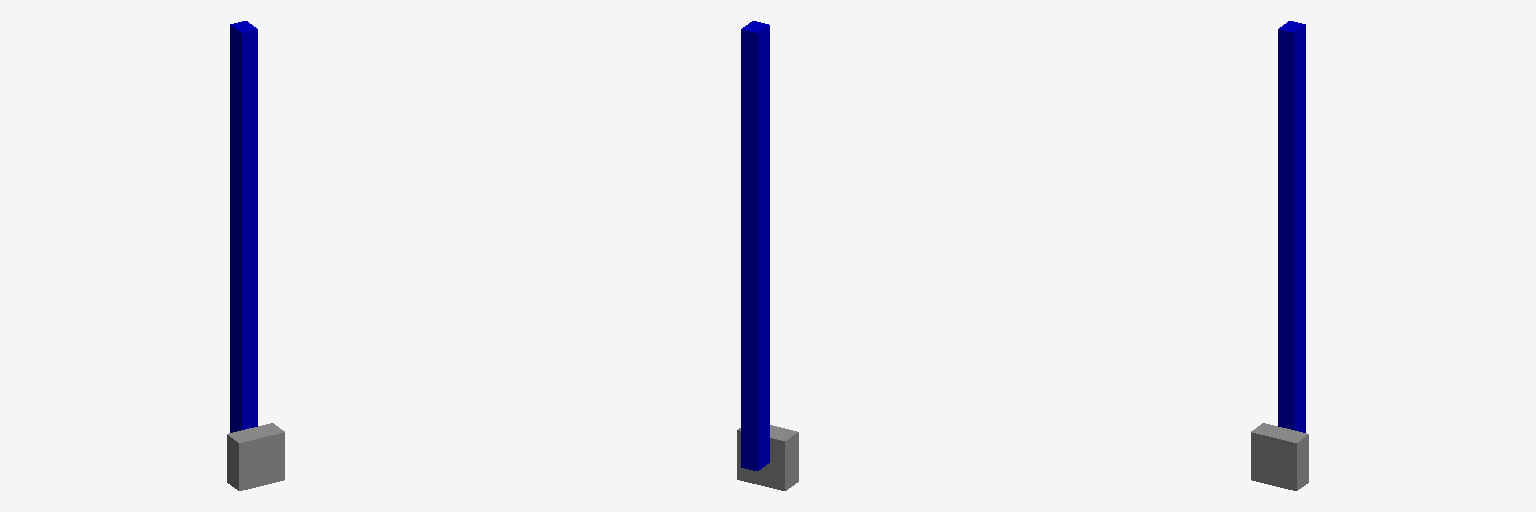
robot.urdf — omnipointer:
<?xml version="1.0" ?>
<!-- =================================================================================== -->
<!-- |    This document was autogenerated by xacro from robots/omnipointer_arm_only.urdf.xacro | -->
<!-- |    EDITING THIS FILE BY HAND IS NOT RECOMMENDED                                 | -->
<!-- =================================================================================== -->
<robot name="omnipointer" xmlns:xacro="http://ros.org/wiki/xacro">
  <!--MX64trntbl + MX106:  ? + 0.153 -->
  <!-- singleaxismount + 2.5girder + singleaxismount + base + MX106: 0.007370876 + 0.0226796 + 0.007370876 + ? + 0.153 -->
  <!-- frame106 + singleaxismount + adjustgirder + singleaxismount + base + MX28: 0.0907185 + 0.00737088 + 0.110563 + 0.00737088 + ? + 0.077 -->
  <!-- frame28 + singleaxismount + 5girder + singleaxismount + base + MX28: 0.0907185 + 0.00737088 + 0.0368544 + 0.00737088 + ? + 0.077 -->
  <!-- frame28 + singleaxismount + 2.5girder + singleaxismount + tip: 0.0907185 + 0.00737088 + 0.0226796 + 0.00737088 + ? -->
  <material name="omni/Blue">
    <color rgba="0 0 0.8 1"/>
  </material>
  <material name="omni/Red">
    <color rgba="1 0 0 1"/>
  </material>
  <material name="omni/Green">
    <color rgba="0 1 0 1"/>
  </material>
  <material name="omni/Yellow">
    <color rgba="1 1 0 1"/>
  </material>
  <material name="omni/LightGrey">
    <color rgba="0.6 0.6 0.6 1"/>
  </material>
  <material name="omni/DarkGrey">
    <color rgba="0.4 0.4 0.4 1"/>
  </material>
  <!-- Now we can start using the macros xacro:included above to define the actual omnipointer -->
  <!-- The first use of a macro.  This one was defined in youbot_base/base.urdf.xacro above.
       A macro like this will expand to a set of link and joint definitions, and to additional
       Gazebo-related extensions (sensor plugins, etc).  The macro takes an argument, name,
       that equals "base", and uses it to generate names for its component links and joints
       (e.g., base_link).  The xacro:included origin block is also an argument to the macro.  By convention,
       the origin block defines where the component is w.r.t its parent (in this case the parent
       is the world frame). For more, see http://www.ros.org/wiki/xacro -->
  <!-- foot for arm-->
  <!-- <link name="base_link">
    <inertial>
       <origin xyz="0 0 0" rpy="0 0 0"/>
       <mass value="10.0"/>
       <inertia ixx="0.1"  ixy="0"  ixz="0" iyy="0.1" iyz="0" izz="0.1" />
    </inertial>
  </link> -->
  <!-- joint between base_link and arm_0_link -->
  <!-- <joint name="${name}_joint_0" type="fixed" >
      <xacro:insert_block name="origin" />
      <parent link="${parent}" />
      <child link="${name}_link_0" />
    </joint> -->
  <link name="base_link">
    <visual>
      <origin rpy="0 0 0" xyz="0 0 0.05715"/>
      <geometry>
        <box size="0.1143 0.0545 0.1143"/>
      </geometry>
      <material name="omni/LightGrey"/>
    </visual>
    <collision>
      <origin rpy="0 0 0" xyz="0 0 0.05715"/>
      <geometry>
        <box size="0.1143 0.0545 0.1143"/>
      </geometry>
    </collision>
    <inertial>
      <!-- CENTER OF MASS -->
      <origin rpy="0 0 0" xyz="0 0 0.05715"/>
      <mass value="0.2"/>
      <!-- box inertia: 1/12*m(y^2+z^2), ... -->
      <inertia ixx="0.000267245666667" ixy="0" ixz="0" iyy="0.000435483" iyz="0" izz="0.000267245666667"/>
    </inertial>
  </link>
  <joint name="pendulum_joint_1" type="continuous">
    <parent link="base_link"/>
    <child link="pendulum_link_1"/>
    <limit effort="2.5" velocity="10.0"/>
    <origin rpy="0 0 0" xyz="0 0.05225 0.05715"/>
    <axis xyz="0 1 0"/>
  </joint>
  <link name="pendulum_link_1">
    <visual>
      <origin rpy="0 0 0" xyz="0 0 0.5"/>
      <geometry>
        <box size="0.0402 0.05 1"/>
      </geometry>
      <material name="omni/Blue"/>
    </visual>
    <collision>
      <origin rpy="0 0 0" xyz="0 0 0.5"/>
      <geometry>
        <box size="0.0402 0.05 1"/>
      </geometry>
    </collision>
    <inertial>
      <!-- CENTER OF MASS -->
      <origin rpy="0 0 0" xyz="0 0 0.5"/>
      <mass value="1"/>
      <!-- box inertia: 1/12*m(y^2+z^2), ... -->
      <inertia ixx="0.0835416666667" ixy="0" ixz="0" iyy="0.0834680033333" iyz="0" izz="0.000343003333333"/>
    </inertial>
  </link>
  <!-- <joint name="${name}_joint_2" type="revolute">
      <parent link="${name}_link_1"/>
      <child link="${name}_link_2"/>
      <limit effort="${joint_eff}" lower="${-joint_lim/2}" upper="${joint_lim/2}" velocity="${joint_vel}"/>
      <origin xyz="0 0 ${link_1_length}" rpy="0 0 0"/>
      <axis xyz="0 1 0"/>
    </joint>

    <xacro:box_link name="${name}_link_2" width="${link_2_width}" depth="${link_2_depth}" length="${link_2_length}" mass="${link_2_mass}" color="omni/Red"/>

    <joint name="${name}_joint_3" type="revolute">
      <parent link="${name}_link_2"/>
      <child link="${name}_link_3"/>
      <limit effort="${joint_eff}" lower="${-joint_lim/2}" upper="${joint_lim/2}" velocity="${joint_vel}"/>
      <origin xyz="0 0 ${link_2_length}" rpy="0 0 0"/>
      <axis xyz="0 1 0"/>
    </joint>

    <xacro:box_link name="${name}_link_3" width="${link_3_width}" depth="${link_3_depth}" length="${link_3_length}" mass="${link_3_mass}" color="omni/Yellow"/>

    <joint name="${name}_joint_4" type="revolute">
      <parent link="${name}_link_3"/>
      <child link="${name}_link_4"/>
      <limit effort="${joint_eff}" lower="${-joint_lim/2}" upper="${joint_lim/2}" velocity="${joint_vel}"/>
      <origin xyz="0 0 ${link_3_length}" rpy="0 0 0"/>
      <axis xyz="0 1 0"/>
    </joint>

    <xacro:box_link name="${name}_link_4" width="${link_4_width}" depth="${link_4_depth}" length="${link_4_length}" mass="${link_4_mass}" color="omni/Green"/>

    <joint name="${name}_joint_5" type="fixed">
      <parent link="${name}_link_4"/>
      <child link="${name}_link_5"/>
      <origin xyz="0 0 ${link_4_length}" rpy="0 0 0"/>
    </joint>

    <link name="${name}_link_5"/> -->
  <!-- END OF ARM LINKS/JOINTS -->
</robot>

--- Facts derived from the render (not from the file) ---
The picture shows the robot from 3 angles, left to right: view 1: azimuth 30°, elevation 25°; view 2: azimuth 150°, elevation 25°; view 3: azimuth 330°, elevation 25°; orthographic projection.
Robot: omnipointer — 2 links, 1 joints (1 continuous); root link base_link; default pose: all joints at 0.
Visible links, largest first — view 1: pendulum_link_1, base_link; view 2: pendulum_link_1, base_link; view 3: pendulum_link_1, base_link.
Link boxes in pixels (x1,y1,x2,y2): pendulum_link_1: (230, 21, 257, 432); base_link: (227, 423, 284, 490); pendulum_link_1: (741, 21, 769, 470); base_link: (737, 425, 798, 490); pendulum_link_1: (1278, 21, 1305, 432); base_link: (1251, 423, 1308, 490).
Size in the robot's own frame: 0.1143 by 0.1045 by 1.06 metres.
Geometry: primitives only (box / cylinder / sphere), no mesh files.
